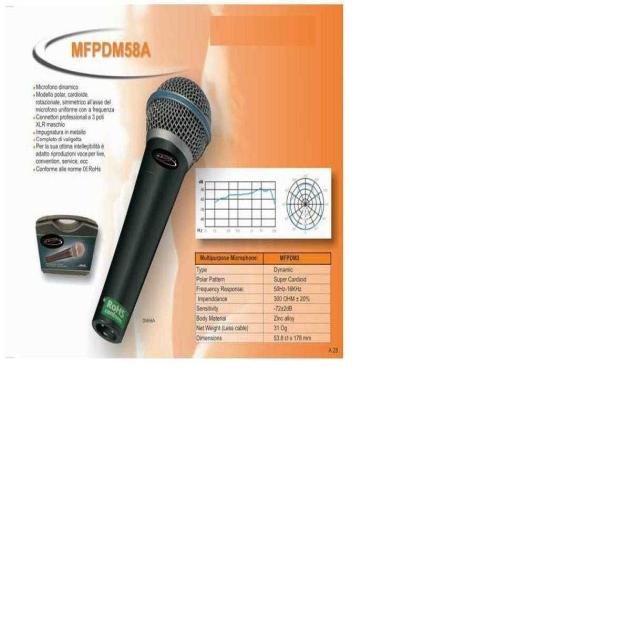microphone: (91, 74, 217, 346)
